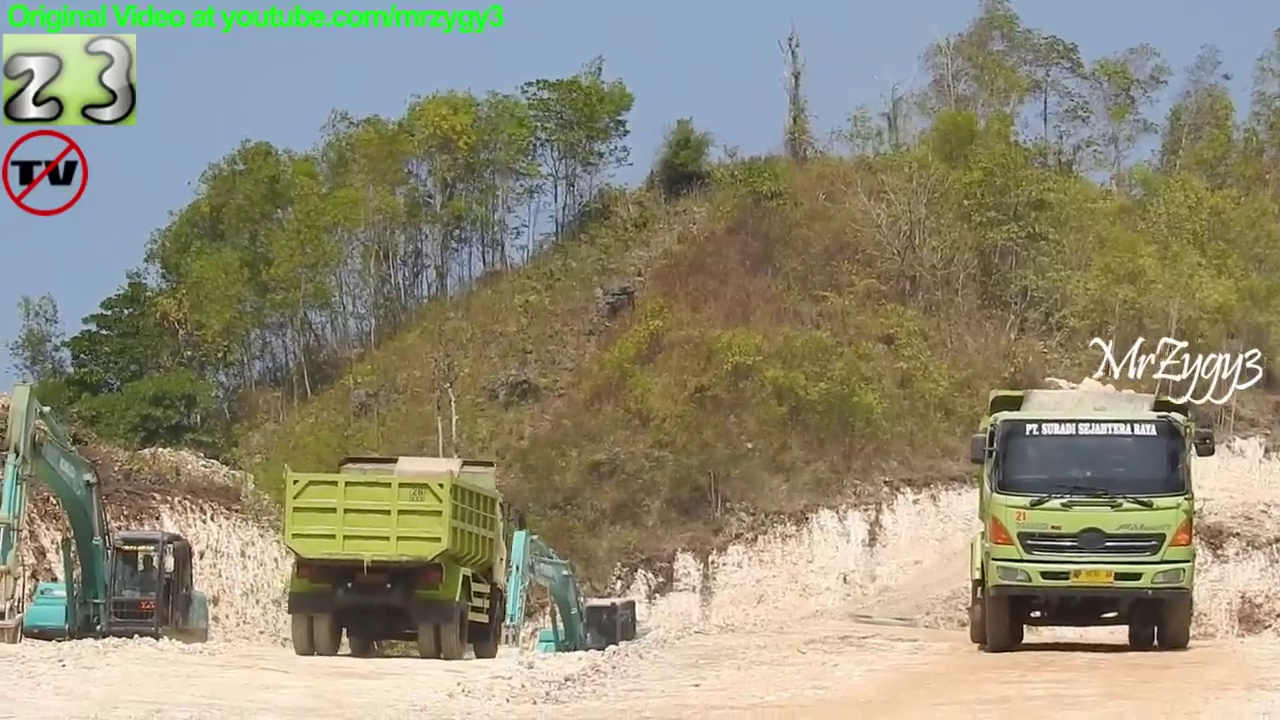excavator: (1, 378, 216, 683), (474, 521, 653, 693)
truck: (962, 385, 1219, 657), (278, 451, 531, 665)
